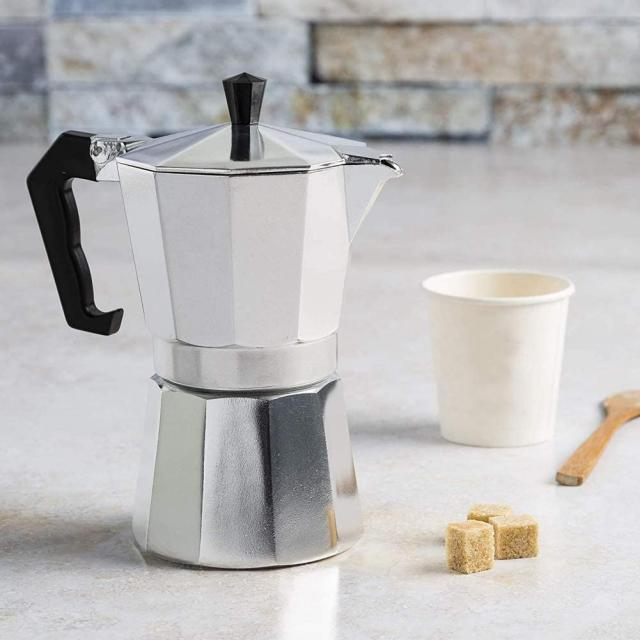cup: (404, 236, 569, 472)
jug: (51, 101, 377, 596)
